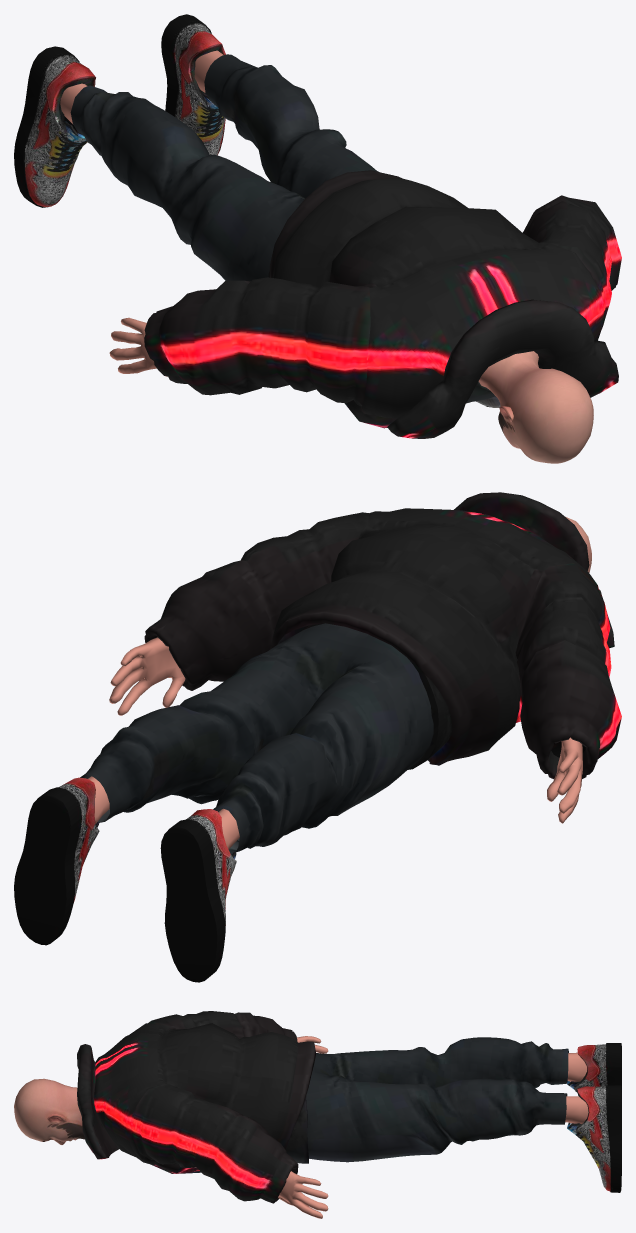
File: animated_avatar.gltf
The picture shows the model from 3 angles, top to bottom: view 1: azimuth 30°, elevation 25°; view 2: azimuth 150°, elevation 25°; view 3: azimuth 270°, elevation 25°; orthographic projection. The views are drawn at different scales.
Parts seen in each view (by area): view 1: Wolf3D_Outfit_Top, Wolf3D_Outfit_Bottom, Wolf3D_Outfit_Footwear, Wolf3D_Head, Wolf3D_Body; view 2: Wolf3D_Outfit_Top, Wolf3D_Outfit_Bottom, Wolf3D_Outfit_Footwear, Wolf3D_Body; view 3: Wolf3D_Outfit_Top, Wolf3D_Outfit_Bottom, Wolf3D_Outfit_Footwear, Wolf3D_Head, Wolf3D_Body.
Boxes of the visible parts, x1,y1,x2,y2 form: Wolf3D_Outfit_Top: [144, 170, 621, 438]; Wolf3D_Outfit_Bottom: [70, 54, 379, 281]; Wolf3D_Outfit_Footwear: [14, 14, 225, 207]; Wolf3D_Head: [478, 351, 593, 463]; Wolf3D_Body: [60, 50, 223, 376]; Wolf3D_Outfit_Top: [144, 492, 621, 779]; Wolf3D_Outfit_Bottom: [80, 623, 433, 854]; Wolf3D_Outfit_Footwear: [14, 777, 236, 982]; Wolf3D_Body: [88, 637, 582, 849]; Wolf3D_Outfit_Top: [77, 1011, 315, 1203]; Wolf3D_Outfit_Bottom: [306, 1037, 568, 1162]; Wolf3D_Outfit_Footwear: [567, 1043, 621, 1192]; Wolf3D_Head: [14, 1078, 84, 1144]; Wolf3D_Body: [278, 1036, 588, 1218].
Size of the model in its own units: 0.0106 by 0.00439 by 0.0183.
Materials: 8 (8 with a texture image).
